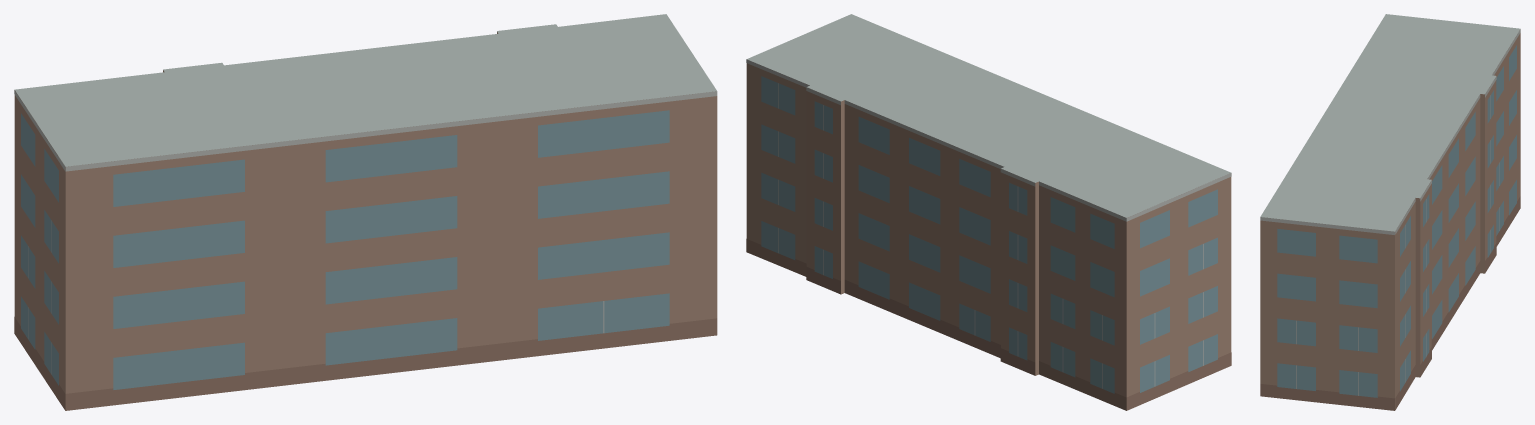
File: survey-upis-32831187.glb
The picture shows the model from 3 angles, left to right: view 1: azimuth 30°, elevation 25°; view 2: azimuth 150°, elevation 25°; view 3: azimuth 270°, elevation 25°; orthographic projection. The views are drawn at different scales.
Visible parts, largest first — view 1: survey-upis-32831187.tmp; view 2: survey-upis-32831187.tmp; view 3: survey-upis-32831187.tmp.
Part boxes in pixels (bbox=[...]): survey-upis-32831187.tmp: bbox=[14, 14, 717, 410]; survey-upis-32831187.tmp: bbox=[746, 14, 1231, 410]; survey-upis-32831187.tmp: bbox=[1260, 14, 1520, 410].
Bounding box in the file's own units: 32.03 × 12.3 × 16.21.
